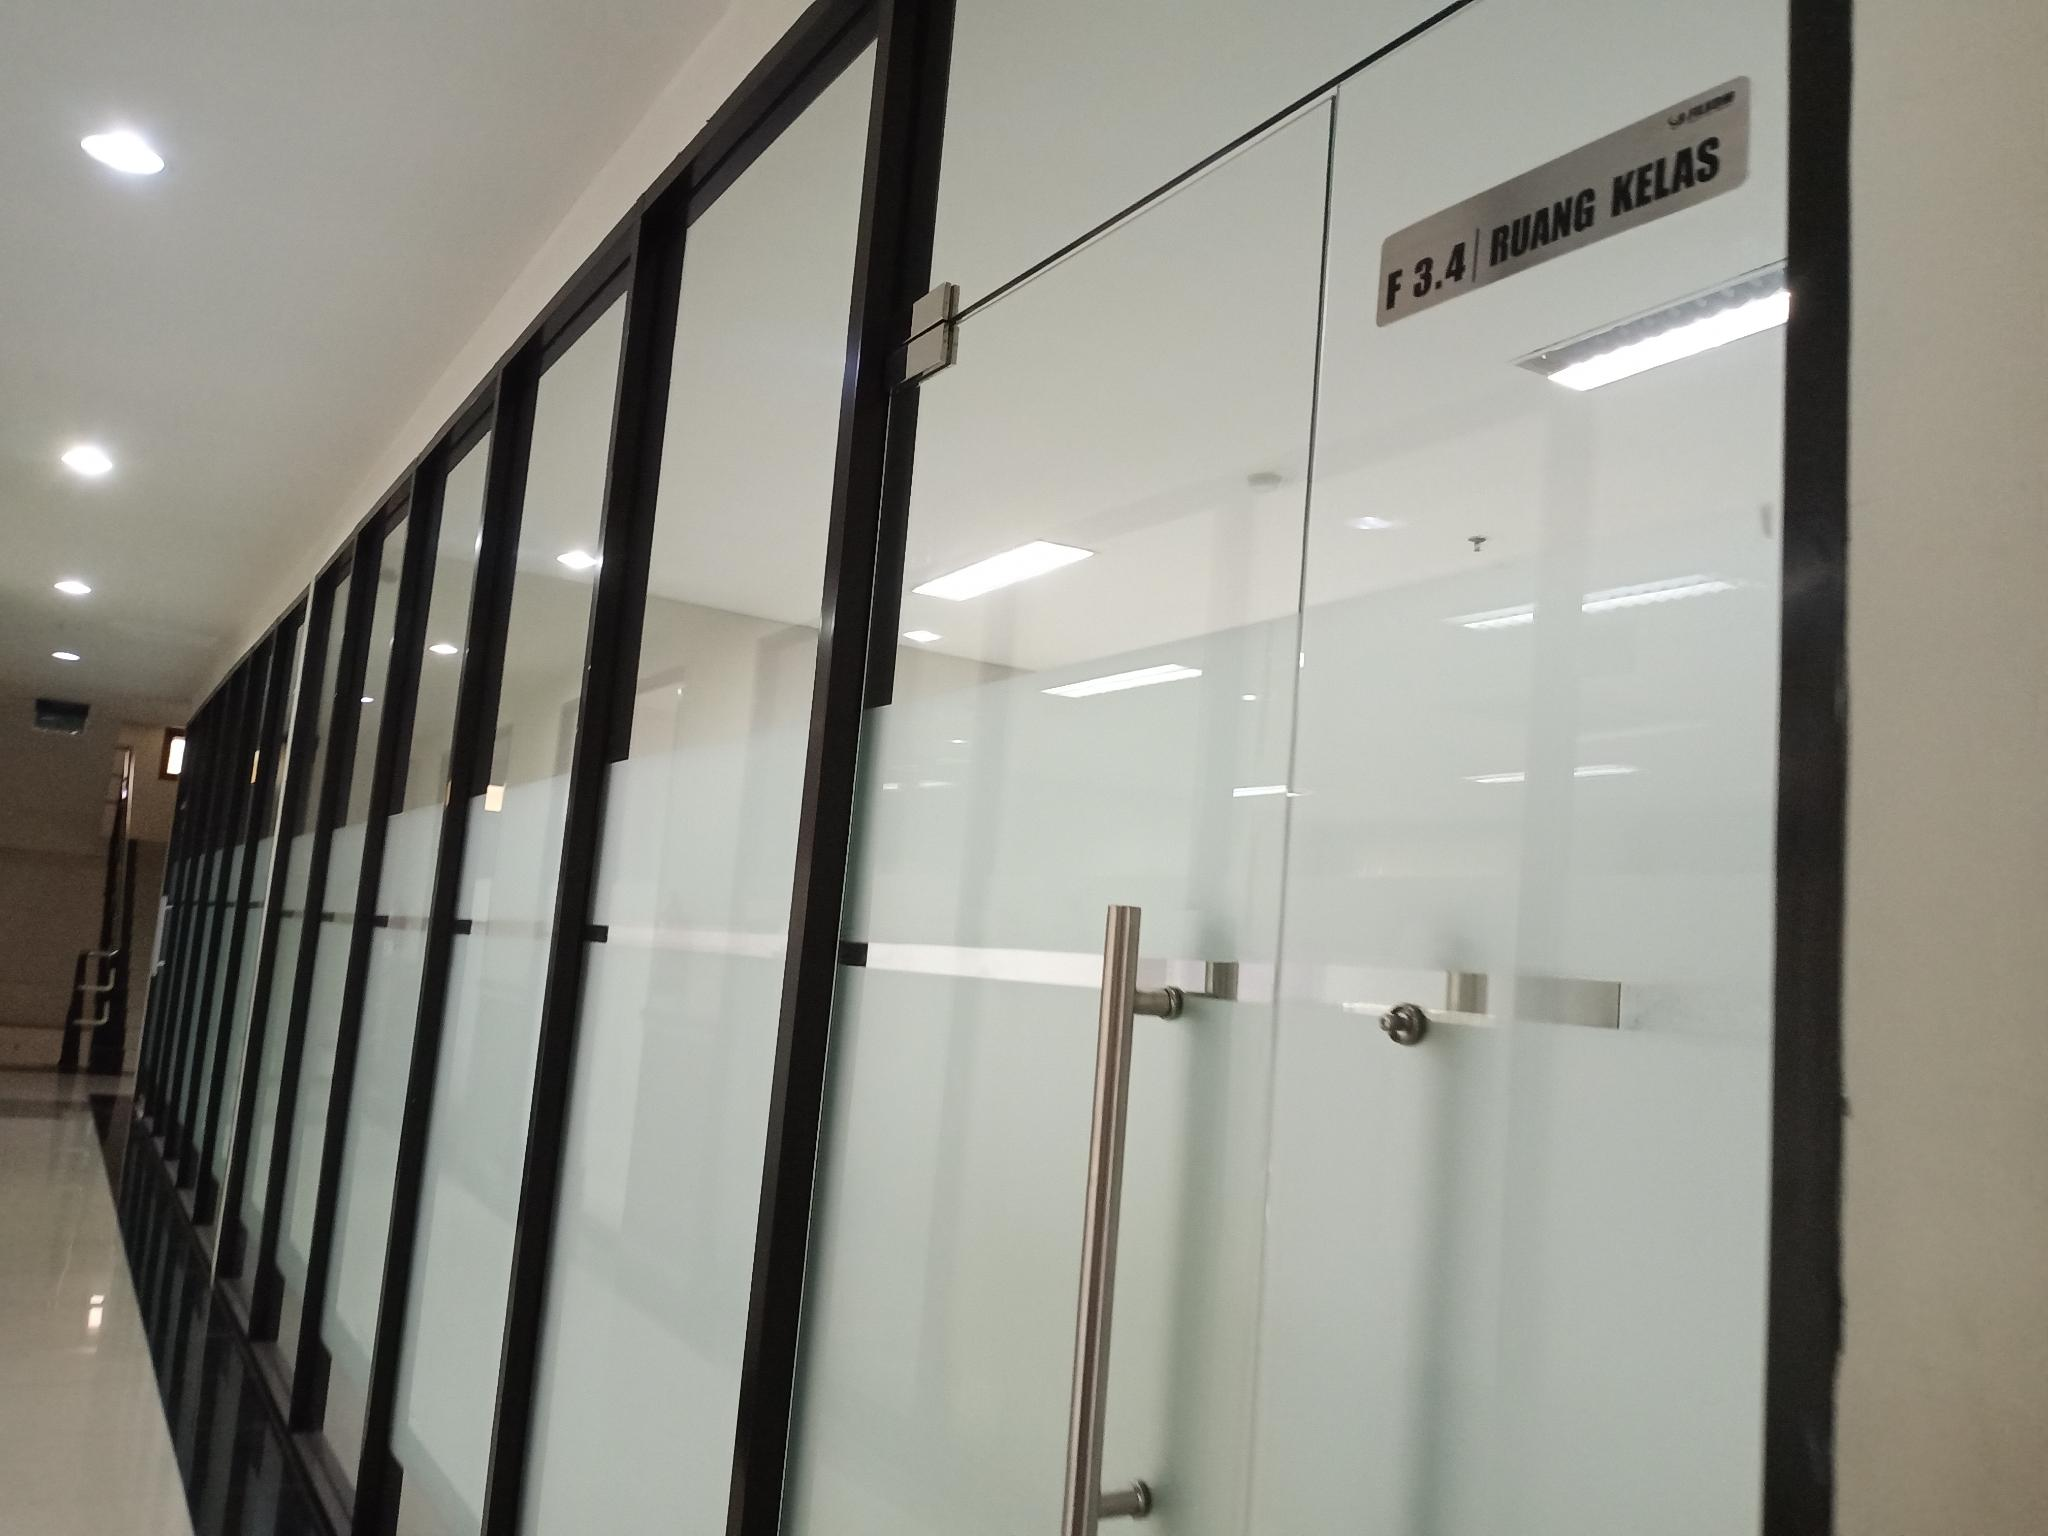plate: (1374, 74, 1750, 329)
